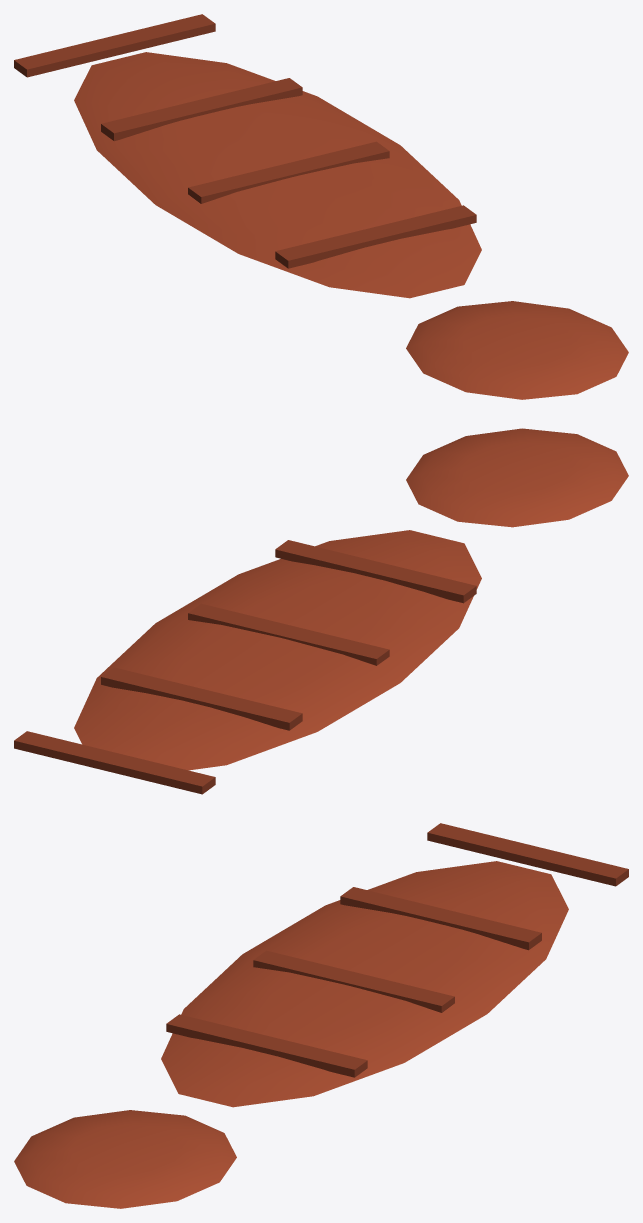
Rendered from footprint.glb.
3 renders of one model, top to bottom at view 1: azimuth 30°, elevation 25°; view 2: azimuth 150°, elevation 25°; view 3: azimuth 330°, elevation 25°, orthographic.
Visible parts, largest first — view 1: footprint; view 2: footprint; view 3: footprint.
Part boxes in pixels (<box>): footprint: <box>14,14,628,399</box>; footprint: <box>14,428,628,794</box>; footprint: <box>14,823,628,1208</box>.
Bounding box in the file's own units: 0.13 × 0.013 × 0.431.
